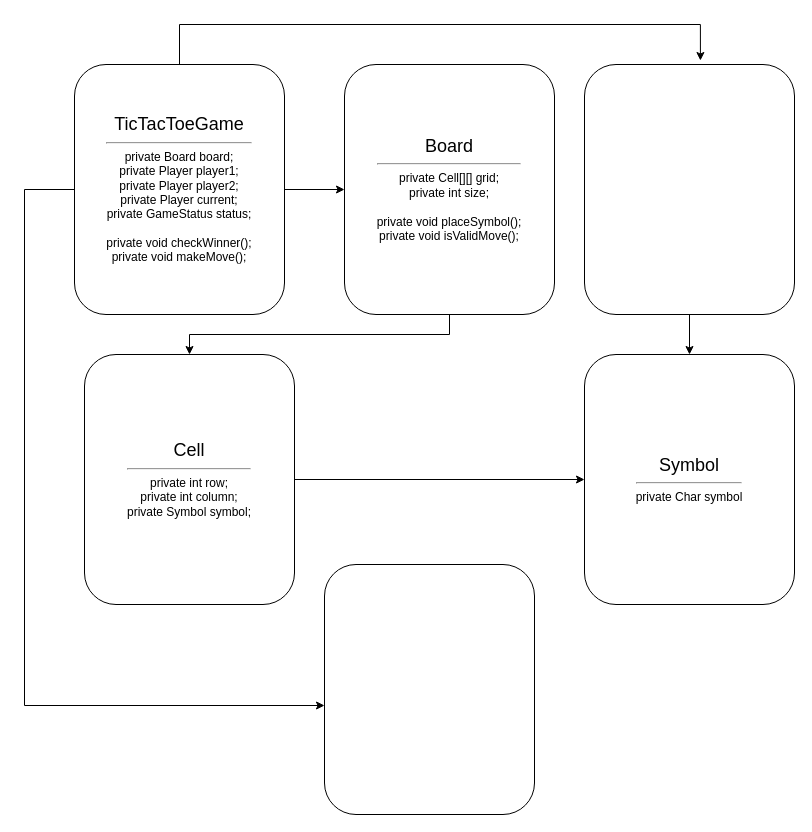
Image size: 812x832. Some labels were removed from this diagram. The shapes that lost their labels are listed below. From the top down, each one's centre as x and y in pixels, then its label:
At pixel 689 189: "Player private String name; privateSymbol symbol;".
At pixel 429 689: "GameStatus (enum) IN_PROGRESS DRAW WIN".
